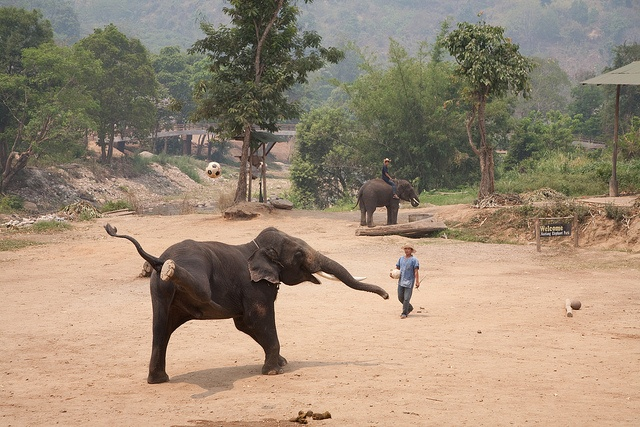elephant: (103, 228, 389, 387), (353, 180, 426, 227)
